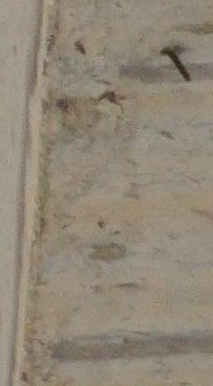Exposed reinforcement: (162, 48, 192, 82)
